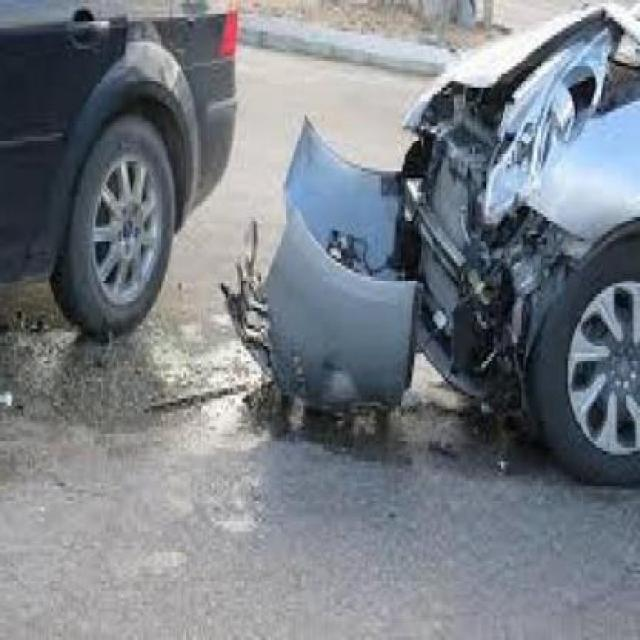damage: (226, 12, 640, 422)
